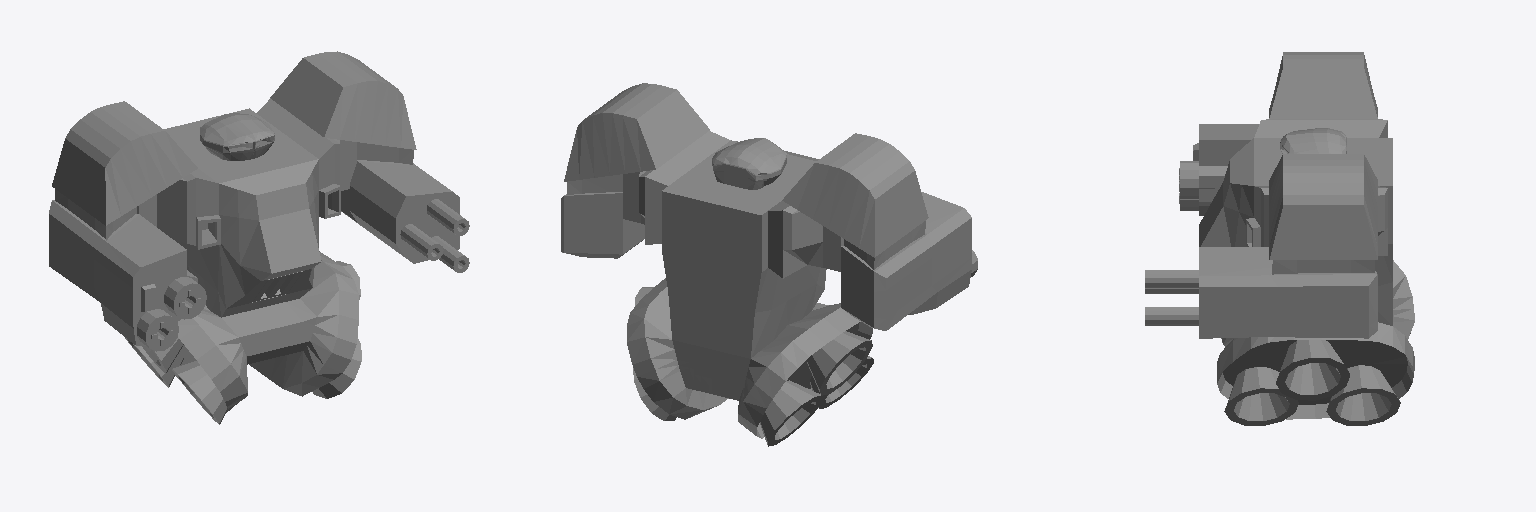
The model's file is EnormousRobot.obj.
3 renders of one model, left to right at view 1: azimuth 30°, elevation 25°; view 2: azimuth 150°, elevation 25°; view 3: azimuth 270°, elevation 25°, orthographic.
Visible parts, largest first — view 1: Body; view 2: Body; view 3: Body.
Boxes of the visible parts, x1=… form: Body: x1=49, y1=51, x2=469, y2=424; Body: x1=561, y1=83, x2=977, y2=446; Body: x1=1145, y1=52, x2=1414, y2=425.
Bounding box in the file's own units: 218 × 186 × 156.